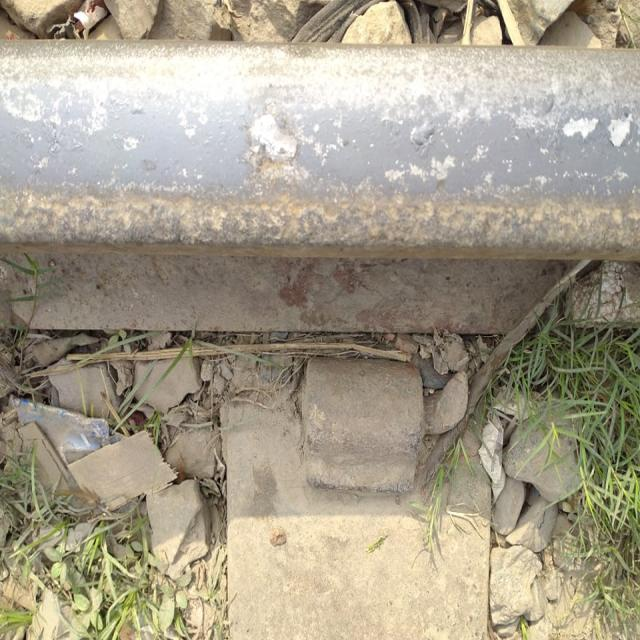Faults: (298, 348, 426, 496)
